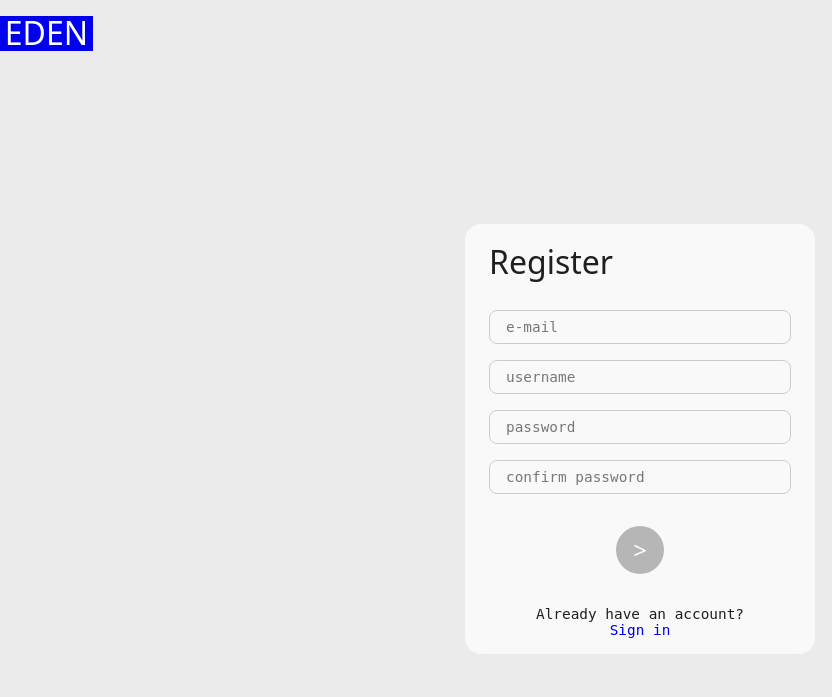
RegisterPage › shows backend registration errors
Type "emma@example.com" into the field named "Email" at (640, 327), box [489,310,791,344]
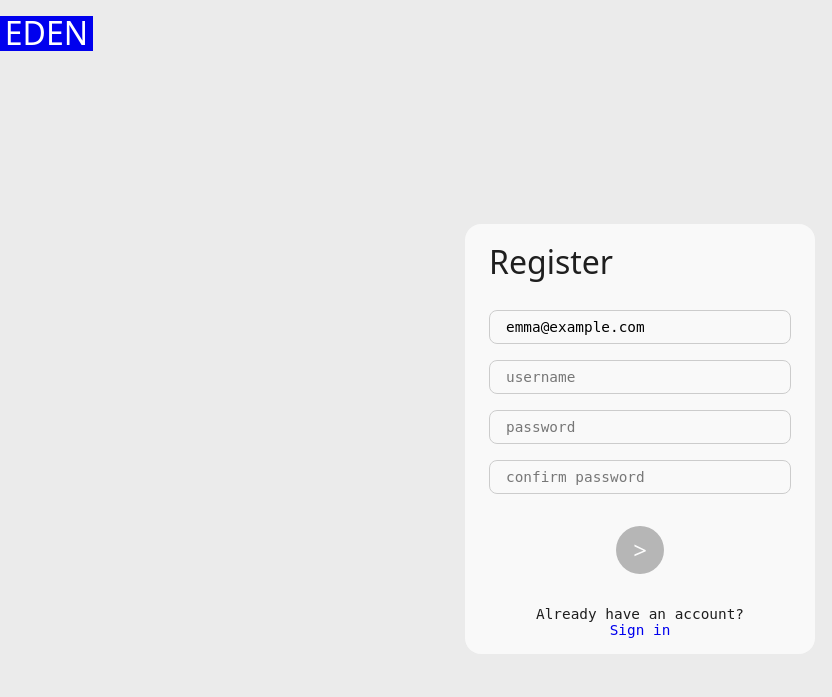
Type "emma" into the field labelled "username" at (640, 377), box [489,360,791,394]
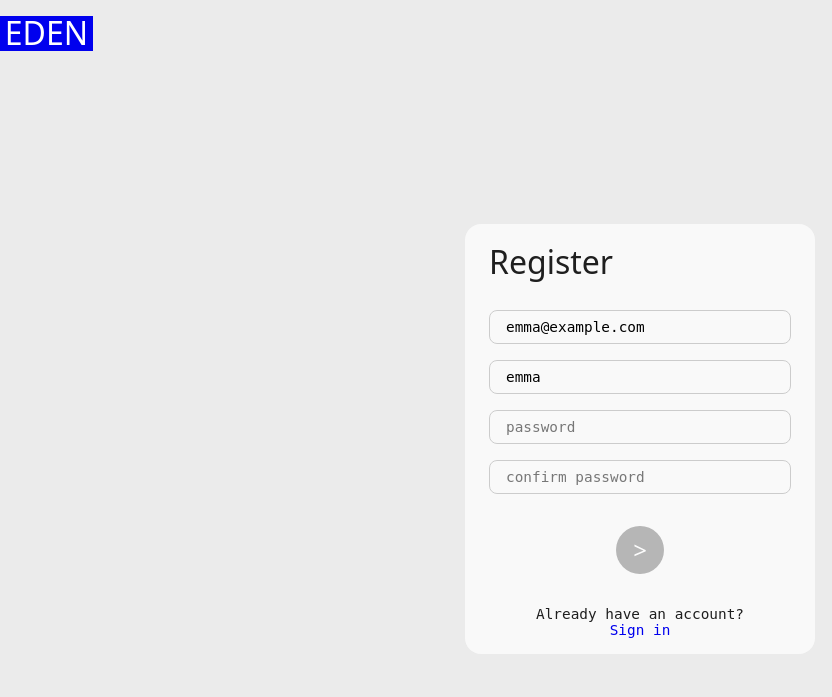
Type "Password123!" into the password field labelled "password" at (640, 427), box [489,410,791,444]
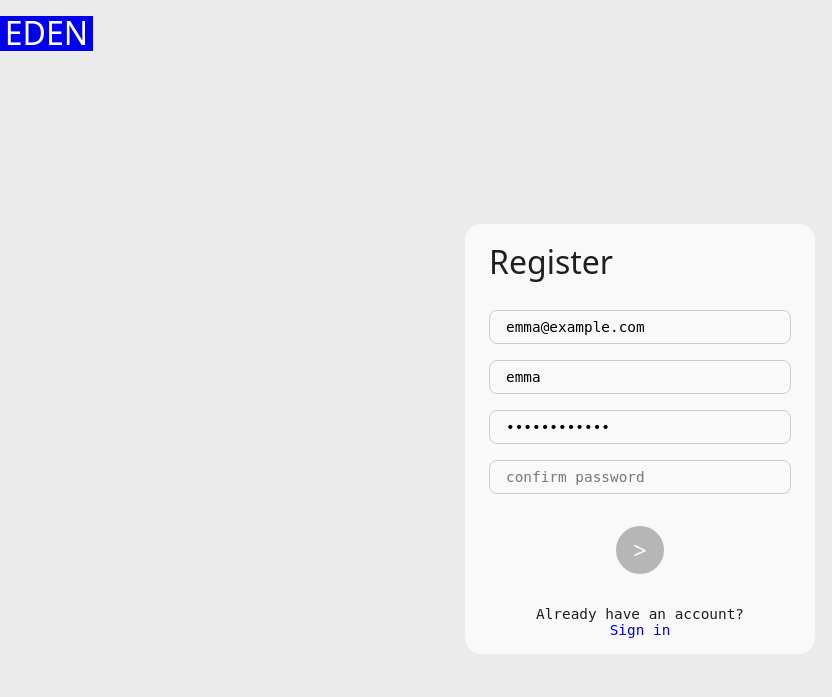
Type "Password123!" into the password field labelled "confirm password" at (640, 477), box [489,460,791,494]
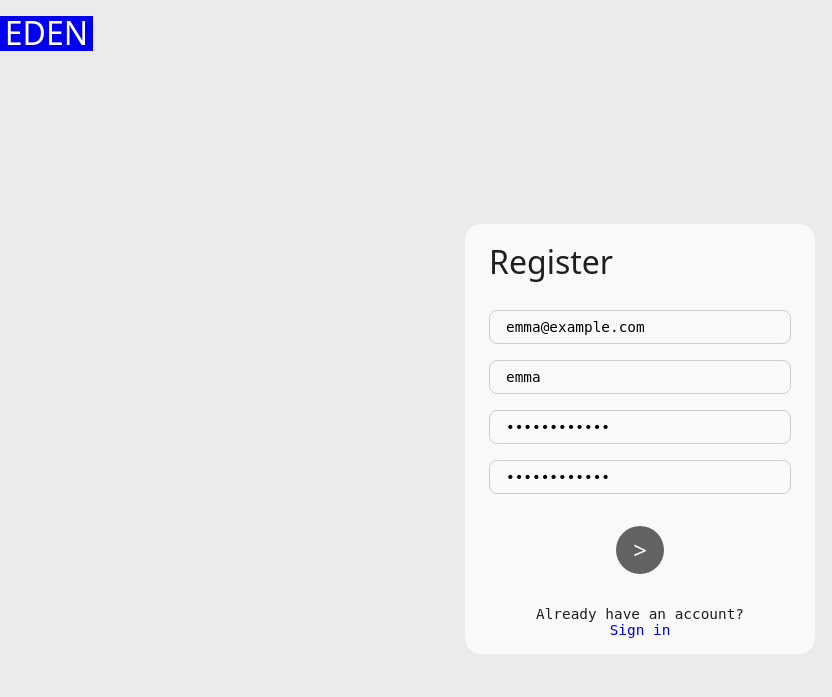
Click the button named "Create account" at (640, 550), box [616,526,664,574]
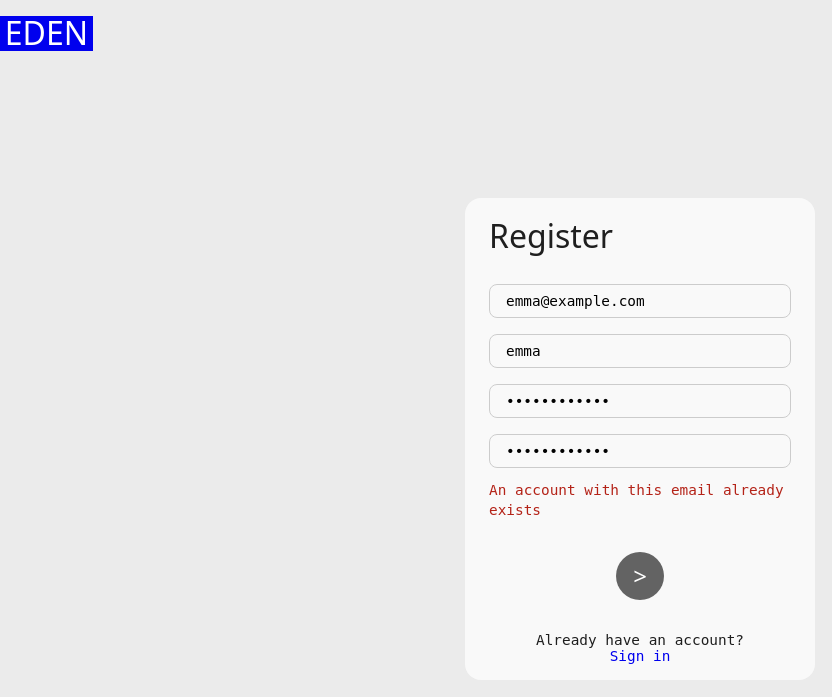
Now the message reads "An account with this email already exists", box [489,482,784,518]
